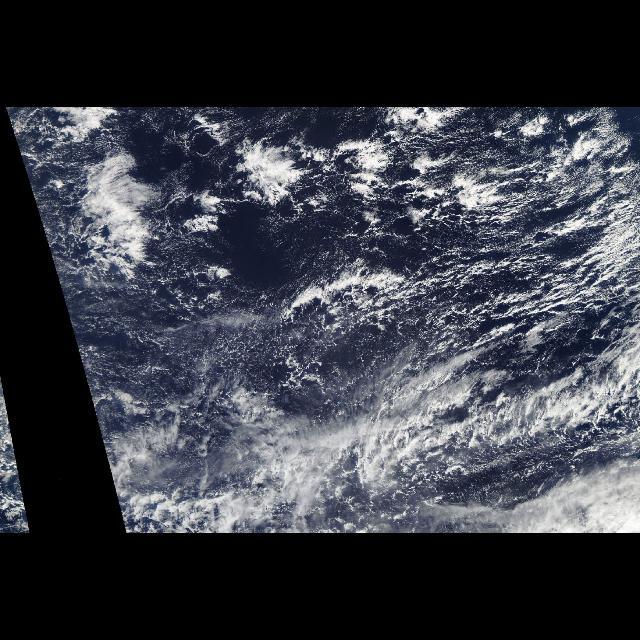Fish: (293, 192, 637, 354)
Gravel: (281, 146, 615, 394)
